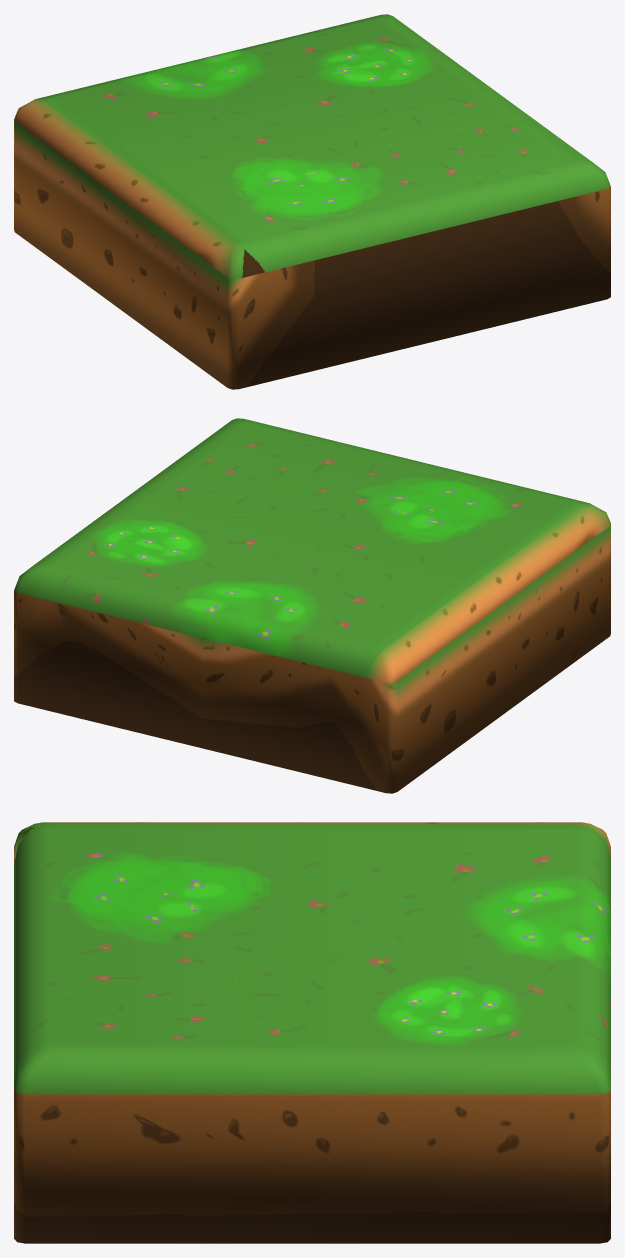
Rendered from PlatformGrass02.fbx.
3 views of the same model, one above another, from view 1: azimuth 30°, elevation 25°; view 2: azimuth 150°, elevation 25°; view 3: azimuth 270°, elevation 25° (orthographic). The views are drawn at different scales.
Visible parts, largest first — view 1: PlatformGrass03; view 2: PlatformGrass03; view 3: PlatformGrass03.
Part boxes in pixels (x1,y1,x2,y2): PlatformGrass03: [14, 14, 610, 389]; PlatformGrass03: [14, 418, 610, 793]; PlatformGrass03: [14, 822, 610, 1243].
Size of what is drawn, in the model's own units: 6 by 2 by 6.
